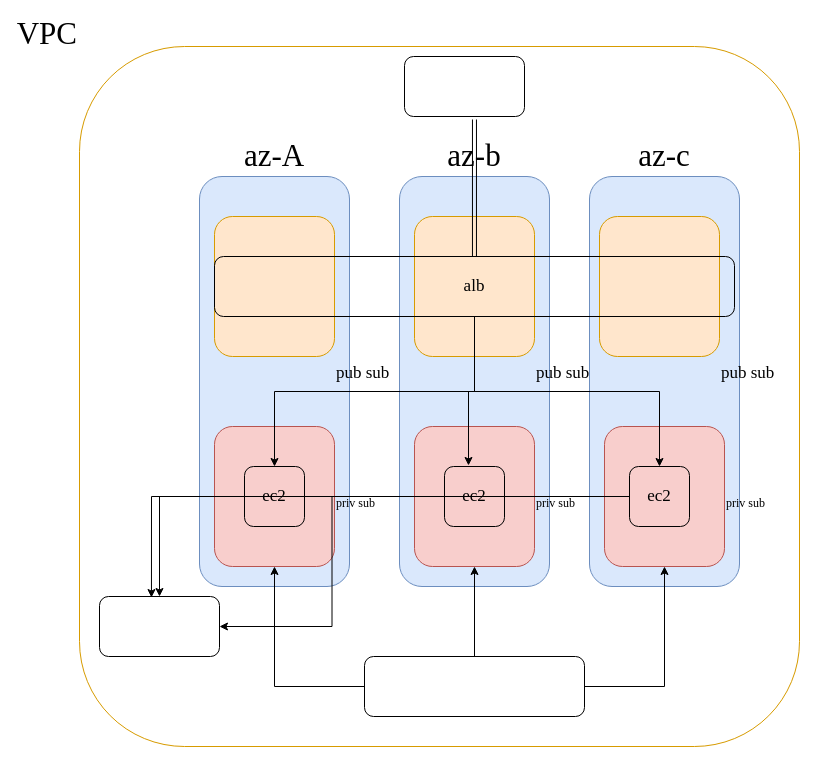
This 817x764 diagram has some shape labels left out. Here are the shapes that lost their labels. From the top down, the centre of each, then its label:
(464,86): IGW
(159,626): NAT GW
(474,686): VPN
